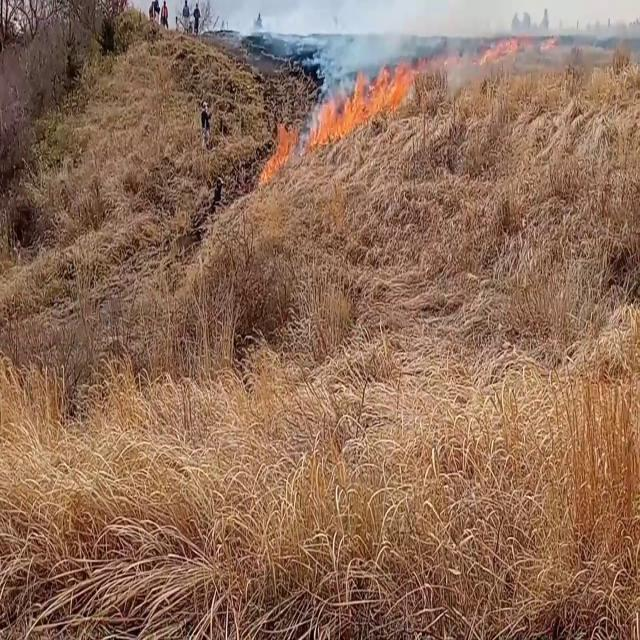Fire: (307, 45, 416, 145), (259, 118, 301, 180)
